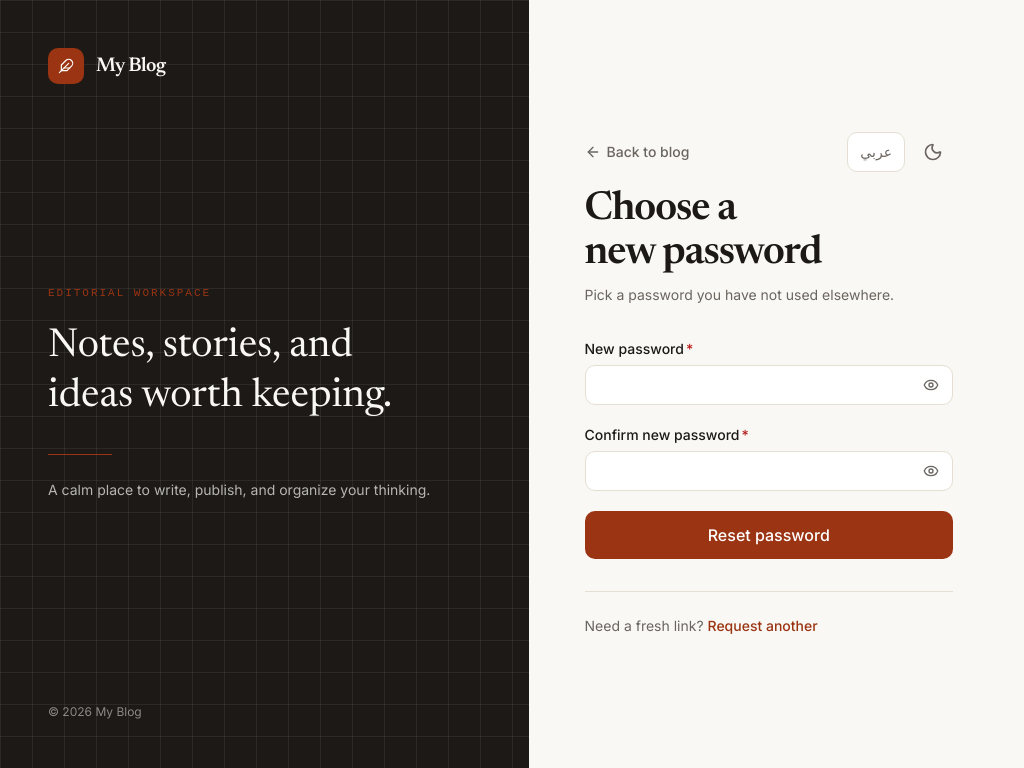
Test: ResetPassword › reports an invalid or expired link when the API rejects the reset
In the password field labelled "New password*": (769, 385) [584,365,953,405], type "new-password"
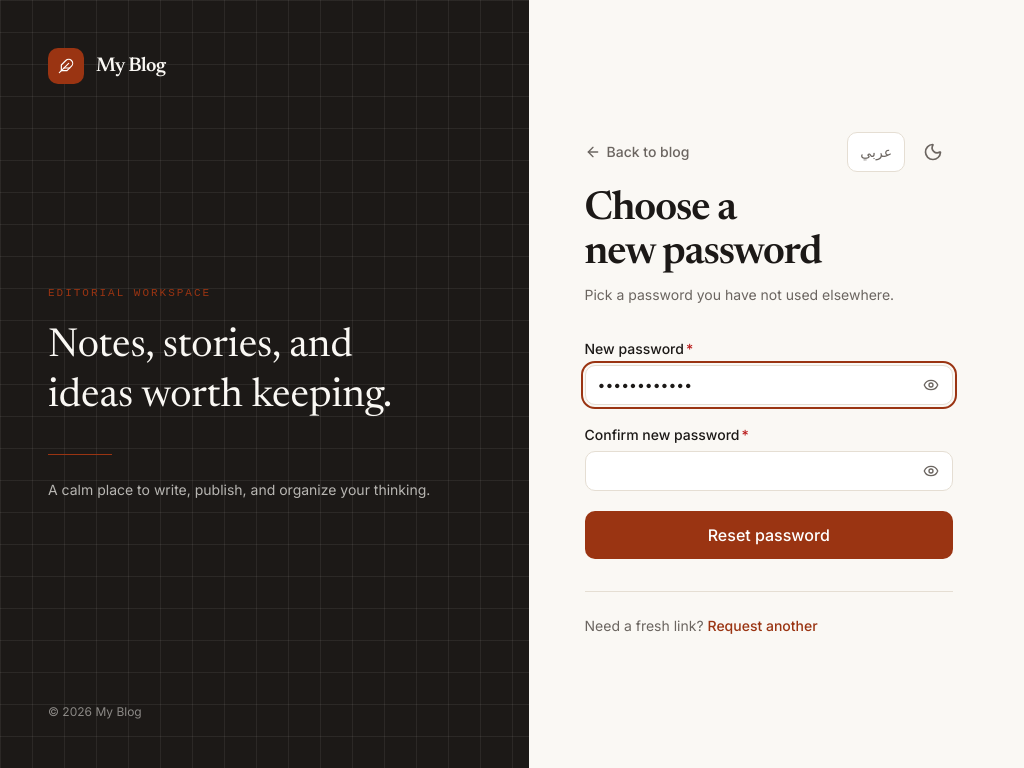
In the password field labelled "Confirm new password*": (769, 471) [584,451,953,491], type "new-password"
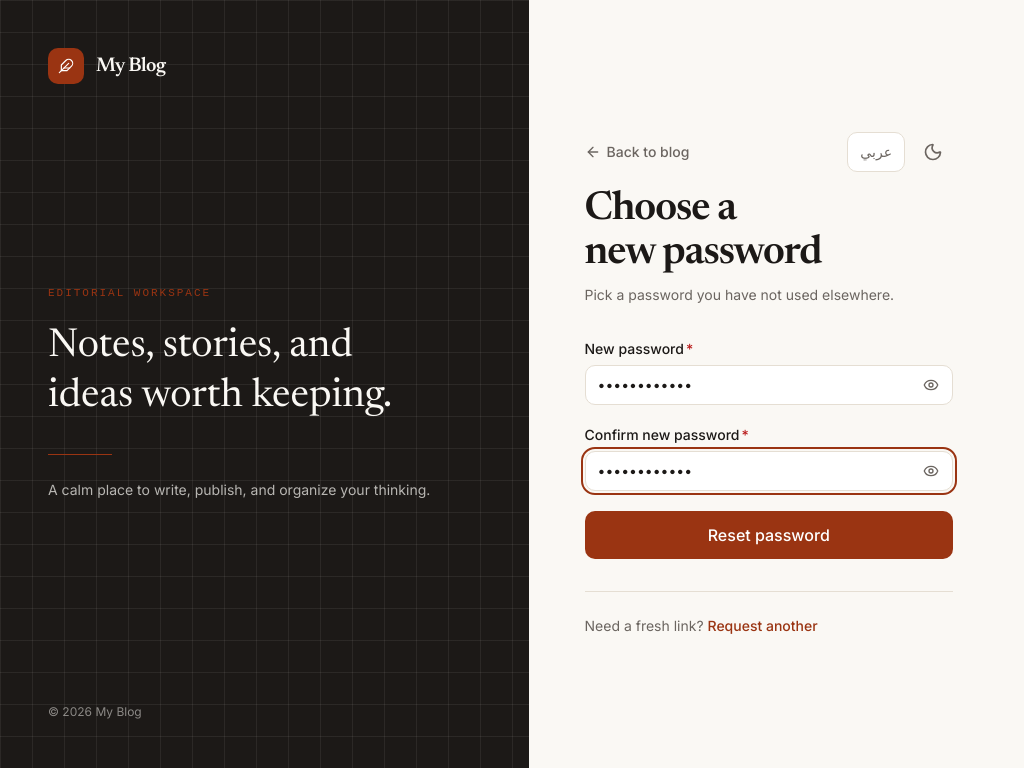
Click the button "Reset password": (769, 535) [584,511,953,559]
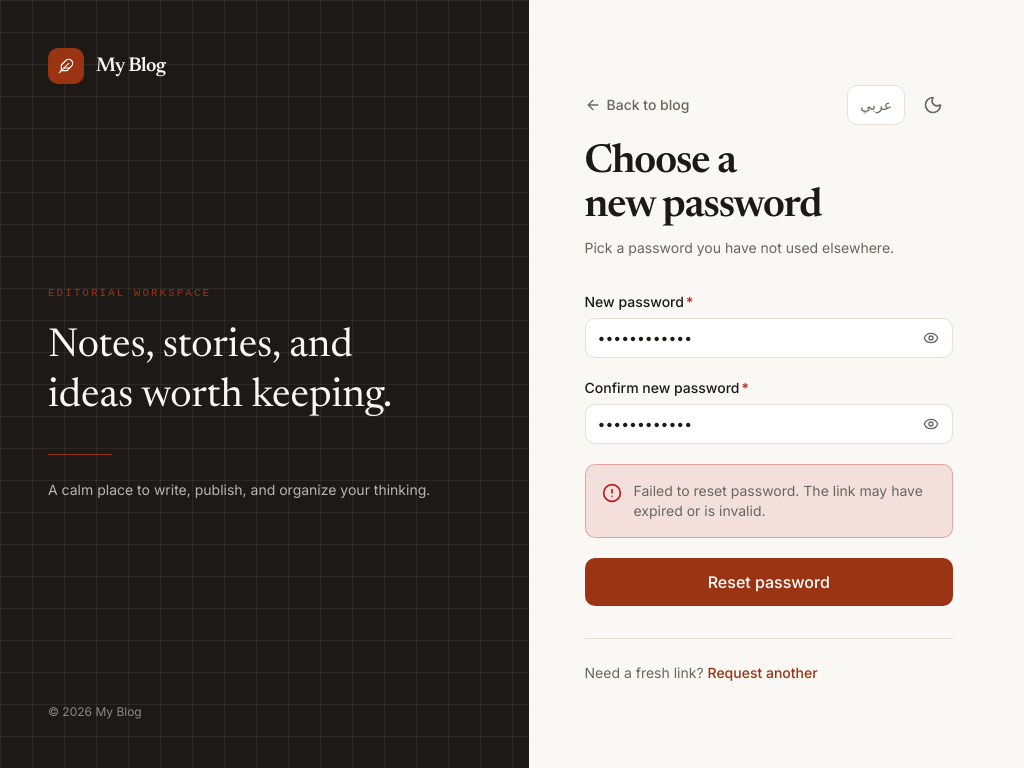
Check: the message reads "Failed to reset password. The link may have expired or is invalid.", box [634,482,923,519]
